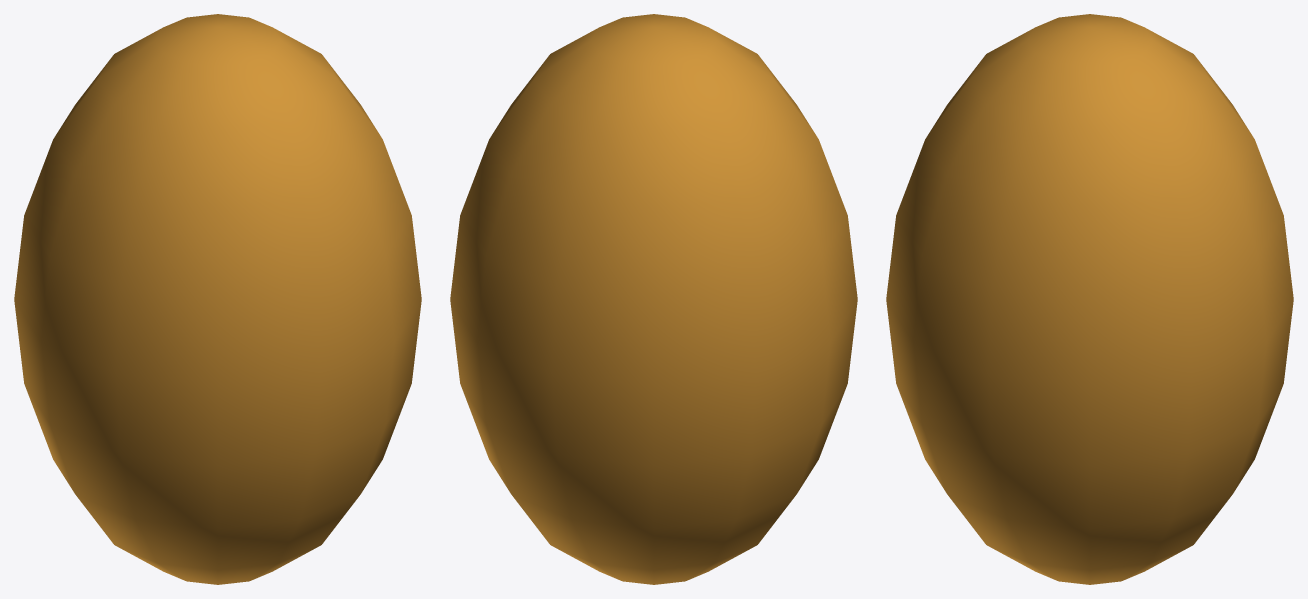
File: orbe.glb
3 views of the same model, side by side, from view 1: azimuth 30°, elevation 25°; view 2: azimuth 150°, elevation 25°; view 3: azimuth 270°, elevation 25° (orthographic).
Parts seen in each view (by area): view 1: SM_orbe; view 2: SM_orbe; view 3: SM_orbe.
Part boxes in pixels (x1=…): SM_orbe: x1=14, y1=14, x2=421, y2=584; SM_orbe: x1=450, y1=14, x2=857, y2=584; SM_orbe: x1=886, y1=14, x2=1293, y2=584.
Size of the model in its own units: 0.38 by 0.56 by 0.38.
